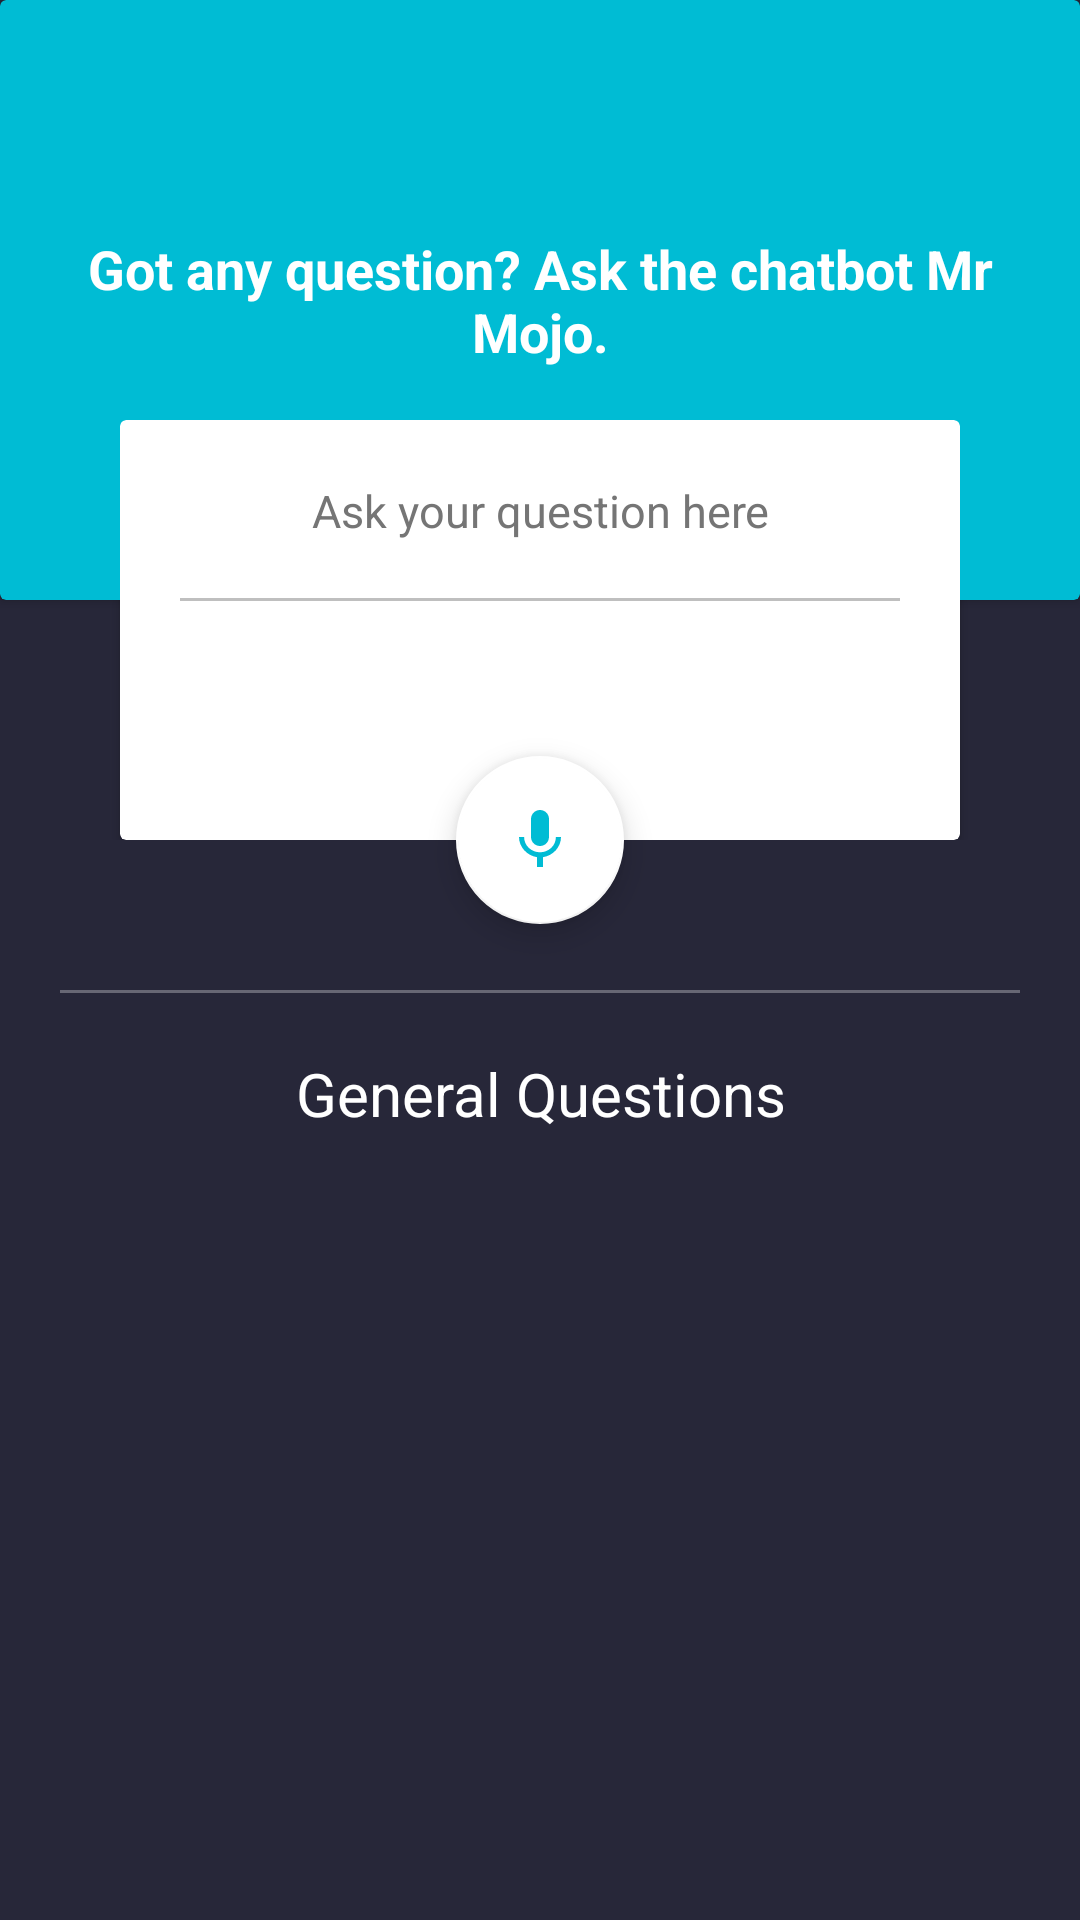

Point at icon controls on the screen. Image size 1080x1920, points as (x,y).
mic: (540,840)
